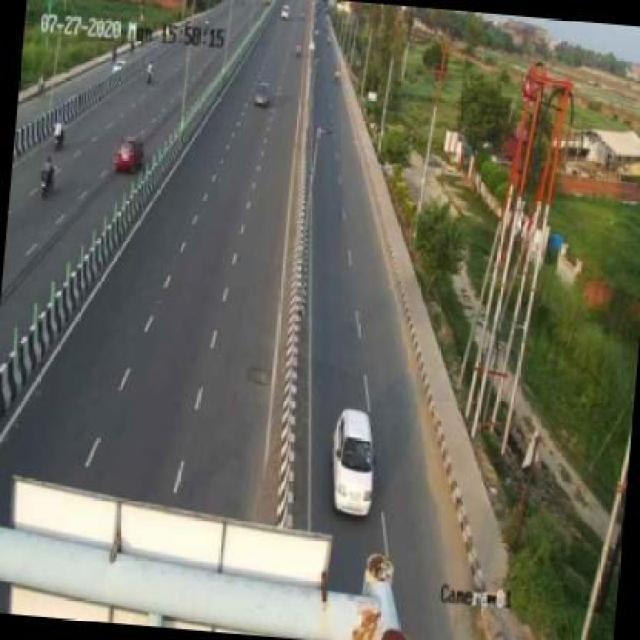car: (322, 405, 392, 523), (108, 129, 149, 177), (249, 77, 274, 112)
